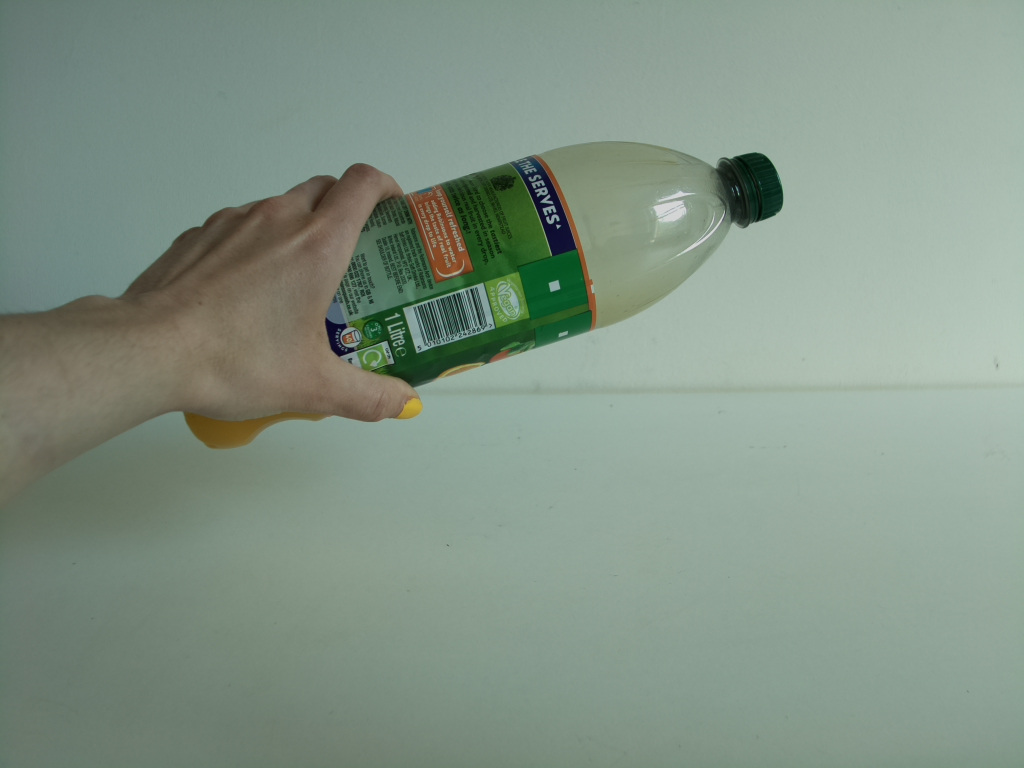juice: (175, 138, 789, 454)
